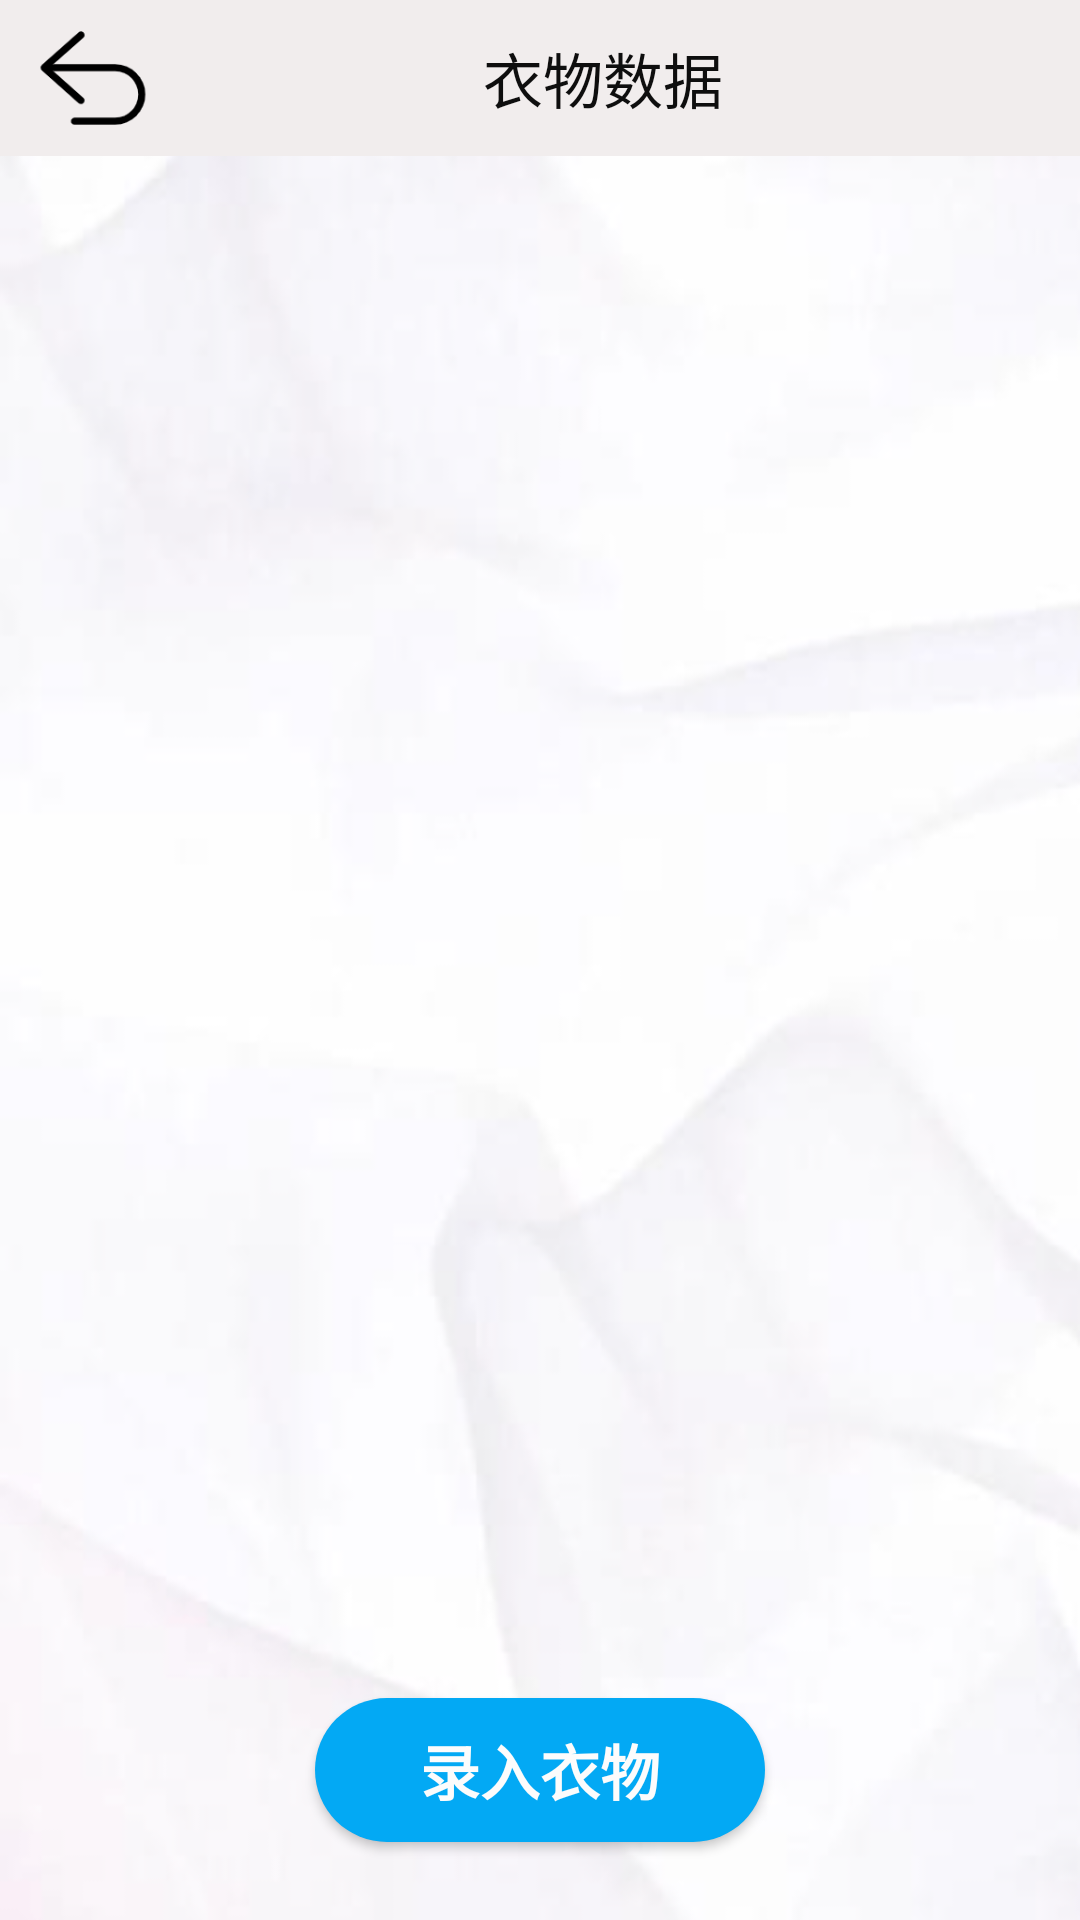

Named icons in this screenshot (1080 × 1920) and their centers, point (x, y):
back: point (93, 78)
